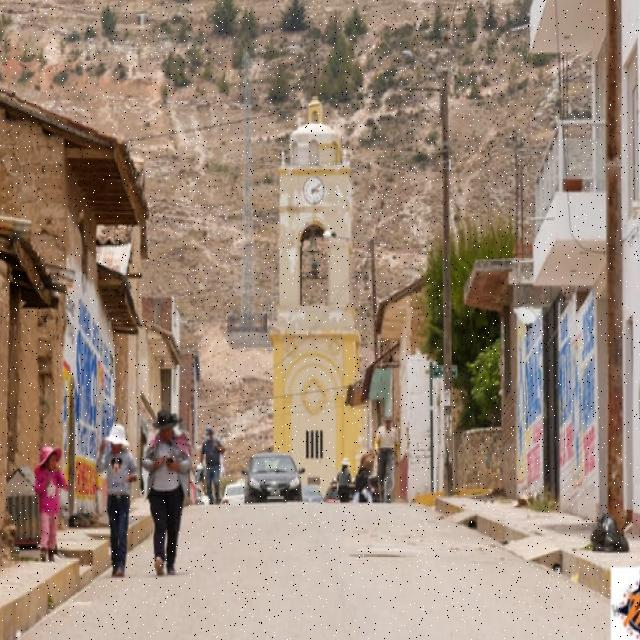CAMPANARIO: (233, 162, 369, 347)
CUPULA: (245, 105, 369, 178)
SIMETRIA COLONIAL: (234, 83, 390, 533)
TORRES: (264, 98, 380, 508)
colonial-architecture-: (218, 69, 396, 540)
